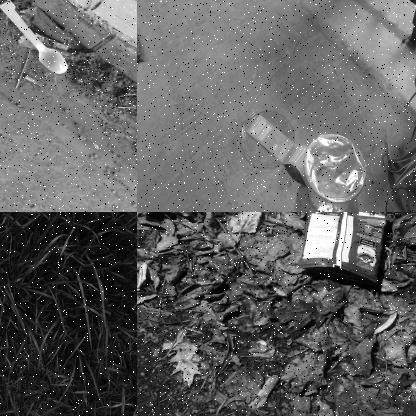plastic: (295, 212, 394, 285), (0, 0, 70, 83), (303, 128, 369, 211), (242, 108, 297, 169)
